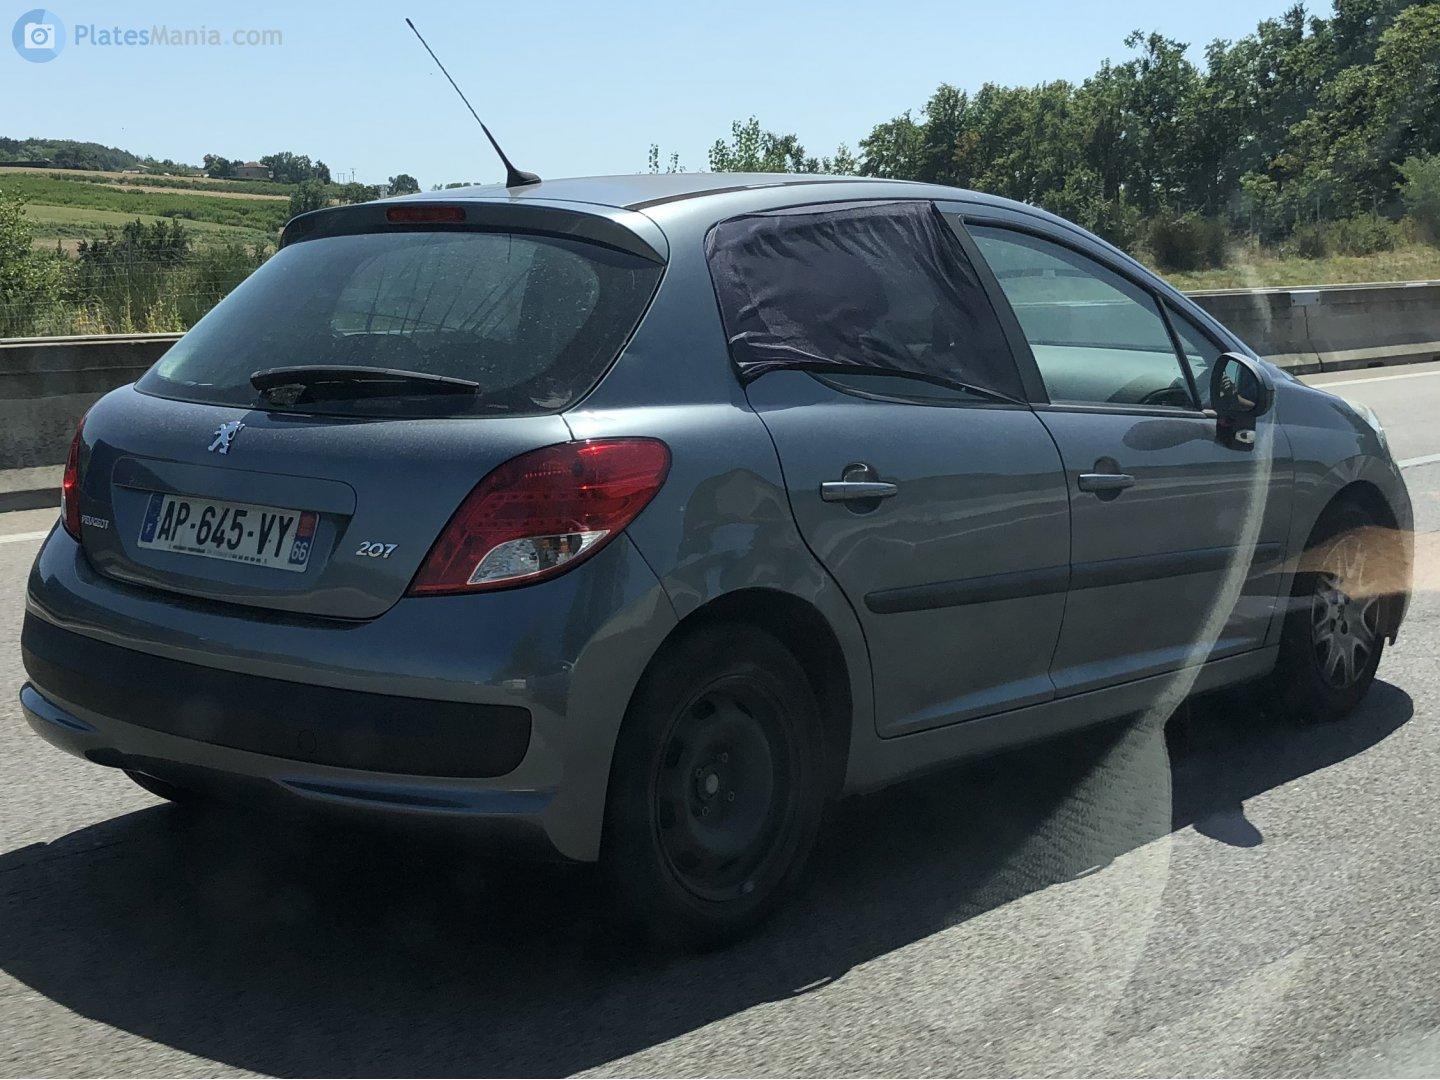licence plate: (132, 485, 322, 576)
